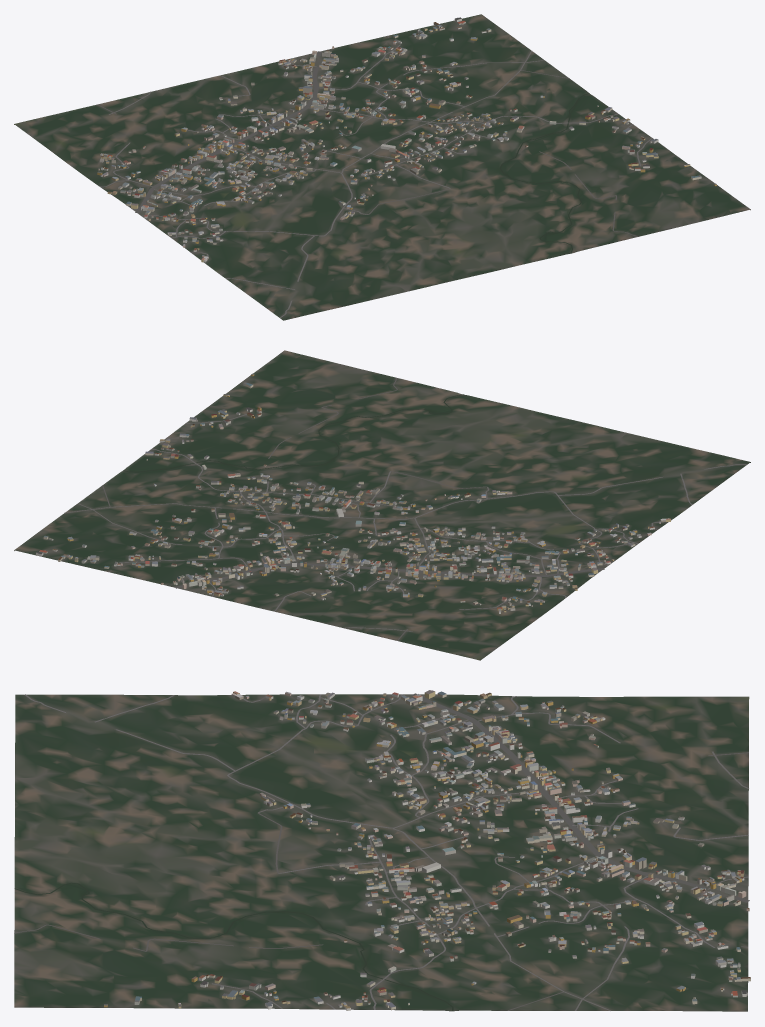
The picture shows the model from 3 angles, top to bottom: view 1: azimuth 30°, elevation 25°; view 2: azimuth 150°, elevation 25°; view 3: azimuth 270°, elevation 25°; orthographic projection. The views are drawn at different scales.
Visible parts, largest first — view 1: ground, buildings, roads; view 2: ground, buildings, roads, water; view 3: ground, buildings, roads, water.
Boxes of the visible parts, <box> form: ground: <box>14,14,750,320</box>; buildings: <box>97,17,716,262</box>; roads: <box>97,35,652,318</box>; ground: <box>14,350,750,660</box>; buildings: <box>36,373,670,613</box>; roads: <box>64,377,747,640</box>; water: <box>123,394,463,472</box>; ground: <box>14,694,749,1011</box>; buildings: <box>104,690,750,1010</box>; roads: <box>14,693,749,1010</box>; water: <box>14,882,453,1010</box>.
Bounding box in the file's own units: 1409 × 27.97 × 1408.
